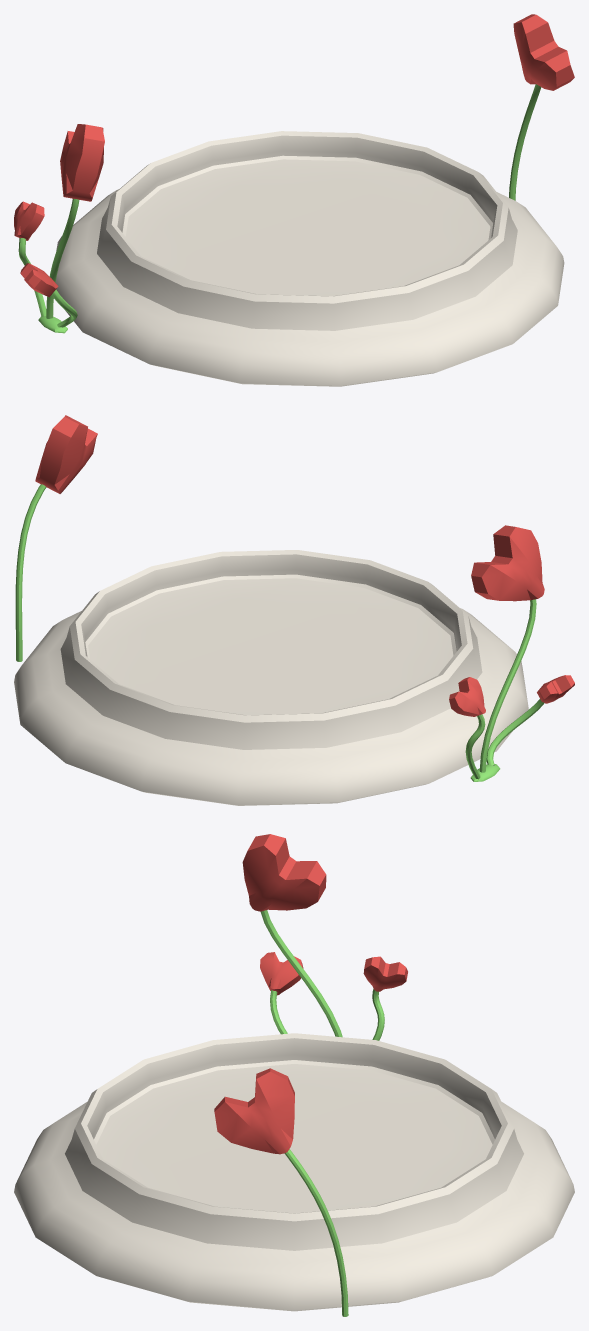
File: heal_Platform001.fbx
3 renders of one model, top to bottom at view 1: azimuth 30°, elevation 25°; view 2: azimuth 150°, elevation 25°; view 3: azimuth 270°, elevation 25°, orthographic. The views are drawn at different scales.
Parts seen in each view (by area): view 1: HP; view 2: HP; view 3: HP.
Part boxes in pixels (x1,y1,x2,y2): HP: [14, 14, 574, 386]; HP: [14, 415, 574, 805]; HP: [14, 834, 574, 1316].
Bounding box in the file's own units: 268 × 108 × 227.
